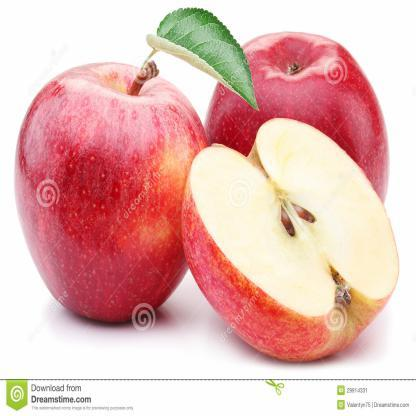Apple leaf: (142, 3, 274, 103)
